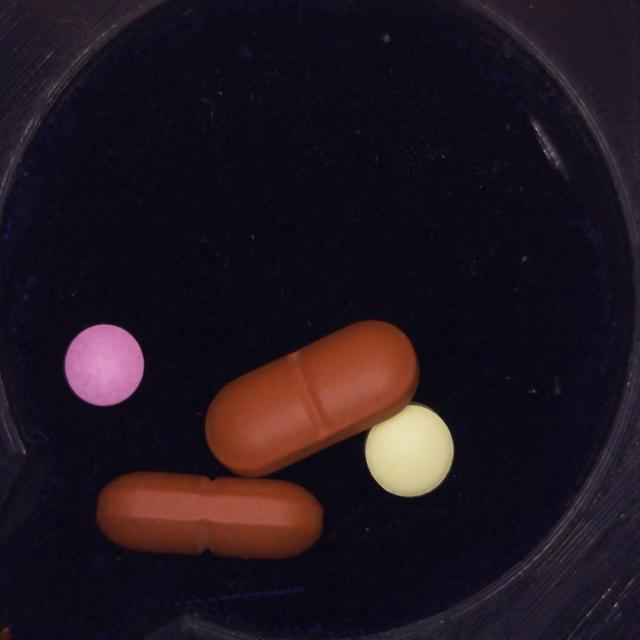Pill: (205, 321, 419, 477), (96, 472, 323, 559), (365, 404, 454, 497), (64, 324, 144, 406)
